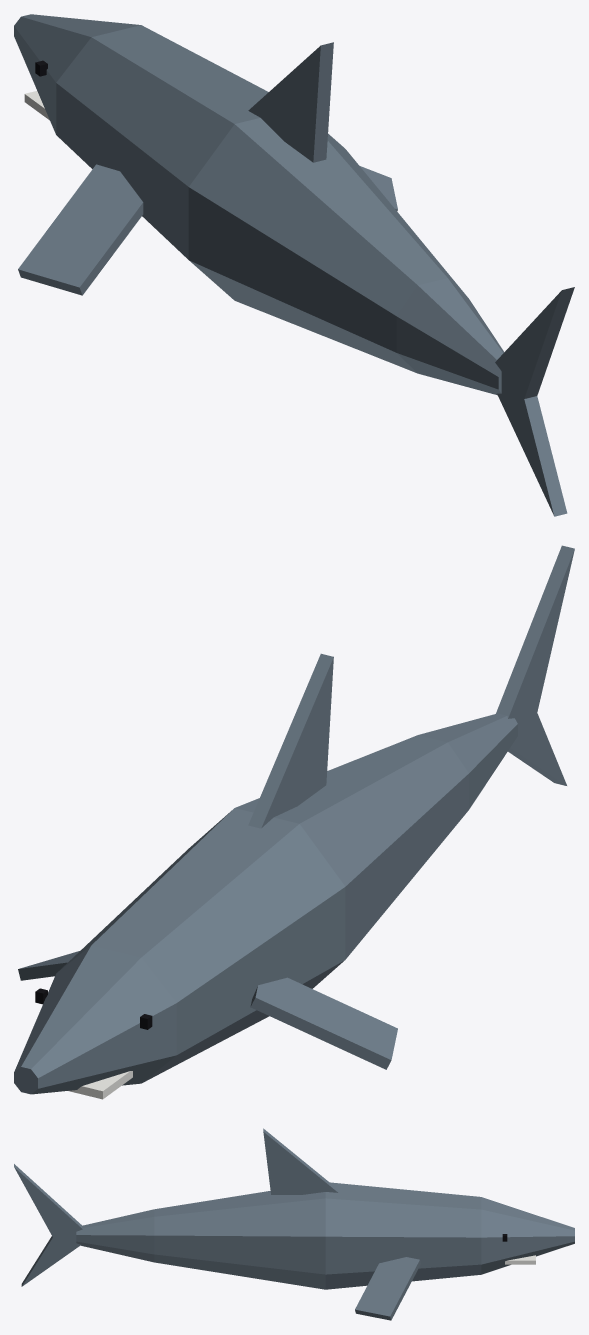
The model's file is animal_shark.glb.
3 views of the same model, one above another, from view 1: azimuth 30°, elevation 25°; view 2: azimuth 150°, elevation 25°; view 3: azimuth 270°, elevation 25° (orthographic). The views are drawn at different scales.
Parts seen in each view (by area): view 1: animal_shark__mesh; view 2: animal_shark__mesh; view 3: animal_shark__mesh.
Boxes of the visible parts, <box> form: animal_shark__mesh: <box>14,14,574,516</box>; animal_shark__mesh: <box>14,545,574,1099</box>; animal_shark__mesh: <box>14,1128,574,1320</box>.
Bounding box in the file's own units: 1.43 × 1.1 × 3.6.
